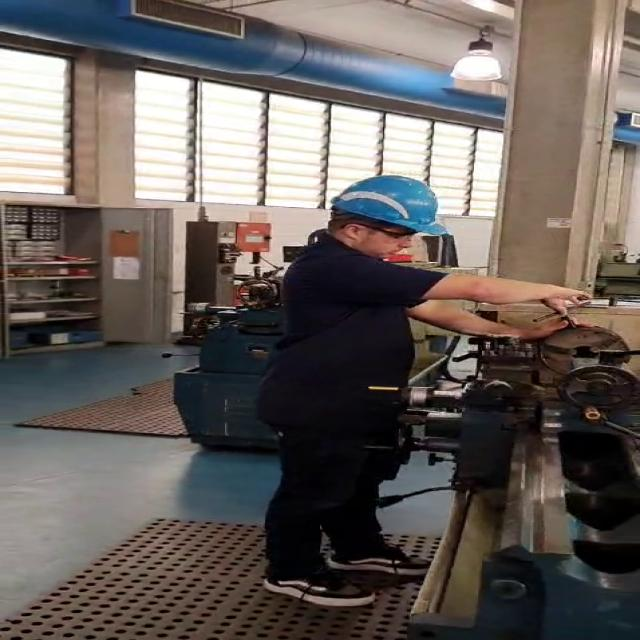oculos-epi: (342, 223, 419, 243)
